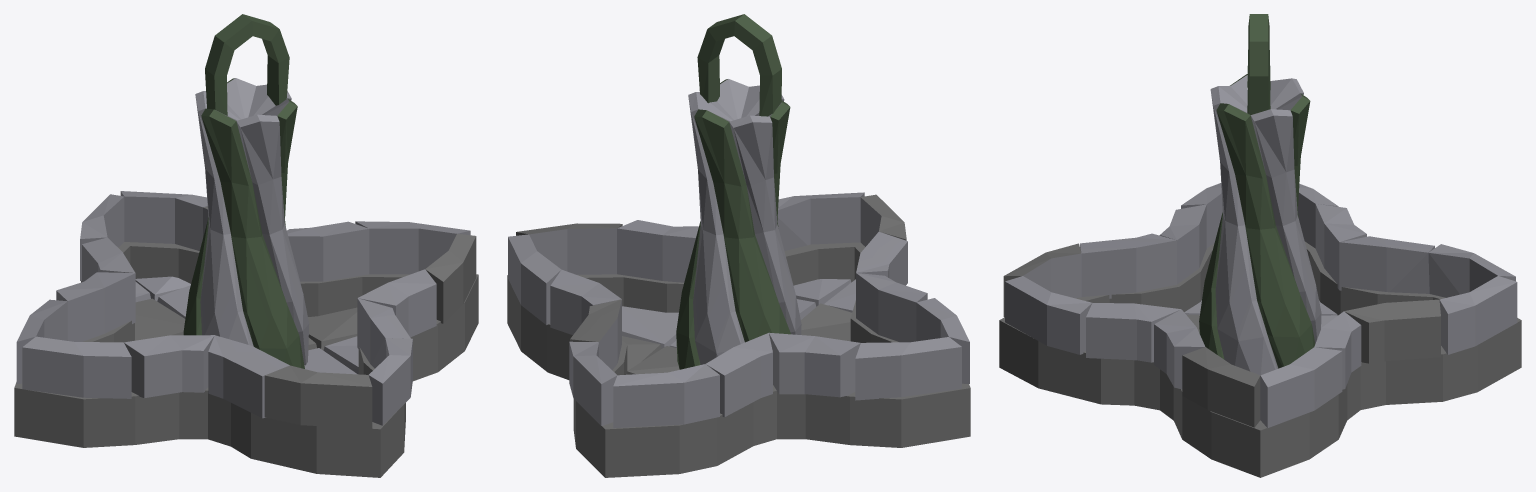
File: _fontan_2.fbx
3 renders of one model, left to right at view 1: azimuth 30°, elevation 25°; view 2: azimuth 150°, elevation 25°; view 3: azimuth 270°, elevation 25°, orthographic. The views are drawn at different scales.
Parts seen in each view (by area): view 1: fontan_2; view 2: fontan_2; view 3: fontan_2.
Boxes of the visible parts, x1,y1,x2,y2 form: fontan_2: [14, 14, 478, 477]; fontan_2: [507, 14, 970, 477]; fontan_2: [999, 14, 1521, 477].
Size of the model in its own units: 425 by 318 by 425.
